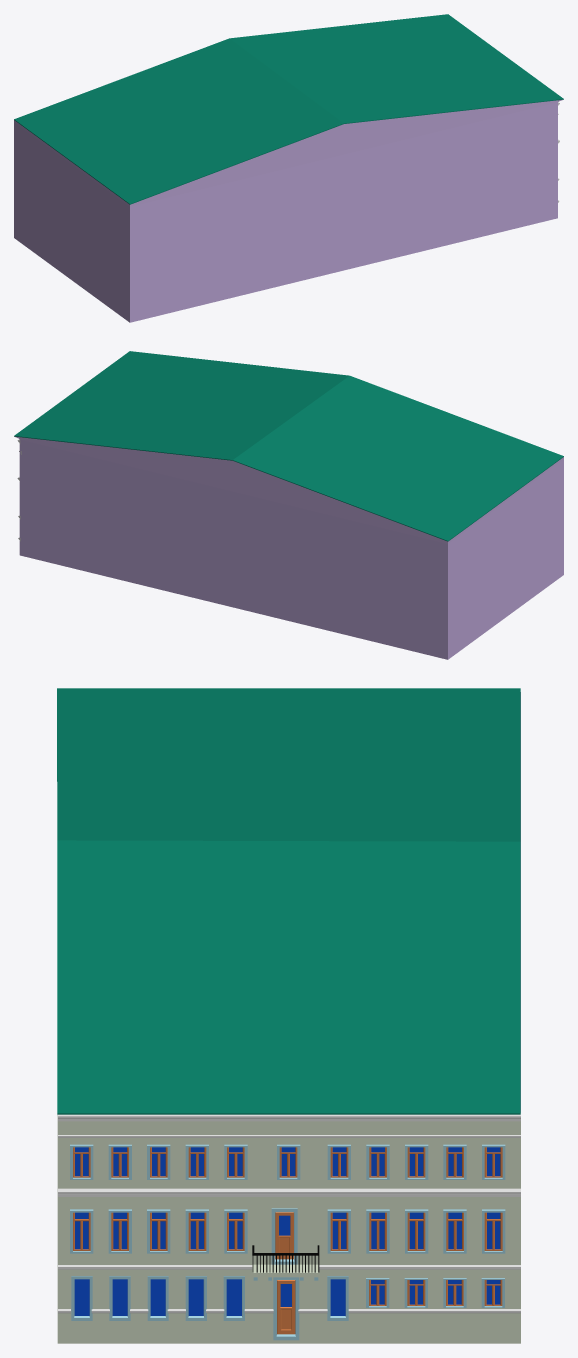
The model's file is Building_01_01.fbx.
3 renders of one model, top to bottom at view 1: azimuth 30°, elevation 25°; view 2: azimuth 150°, elevation 25°; view 3: azimuth 270°, elevation 25°, orthographic. The views are drawn at different scales.
Parts seen in each view (by area): view 1: 0_Corpus; view 2: 0_Corpus; view 3: 0_Corpus, Window 4 arr.003, Window 4 arr.004, Window 5.001, Window 4 arr.006, Window 4 arr.005, BalconyBelt.010, BalconyBelt.012, Window 4 arr.009, BalconyBelt.009, Doors.004, Doors.005 (+5 smaller).
Boxes of the visible parts, bbox=[...] form: 0_Corpus: bbox=[14, 14, 563, 322]; 0_Corpus: bbox=[14, 351, 563, 659]; 0_Corpus: bbox=[57, 688, 520, 1343]; Window 4 arr.003: bbox=[70, 1209, 247, 1253]; Window 4 arr.004: bbox=[327, 1209, 505, 1253]; Window 5.001: bbox=[71, 1276, 244, 1320]; Window 4 arr.006: bbox=[327, 1144, 505, 1179]; Window 4 arr.005: bbox=[70, 1144, 247, 1179]; BalconyBelt.010: bbox=[58, 1188, 520, 1196]; BalconyBelt.012: bbox=[58, 1113, 520, 1121]; Window 4 arr.009: bbox=[366, 1278, 504, 1307]; BalconyBelt.009: bbox=[58, 1265, 520, 1269]; Doors.004: bbox=[273, 1277, 299, 1340]; Doors.005: bbox=[271, 1208, 297, 1264].
Bounding box in the file's own units: 13120 × 4225 × 6038.
